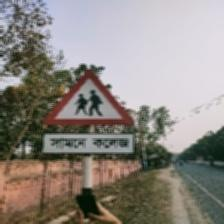College-in-front: (40, 71, 138, 174)
